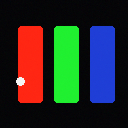0 point: (16, 77, 24, 85)
